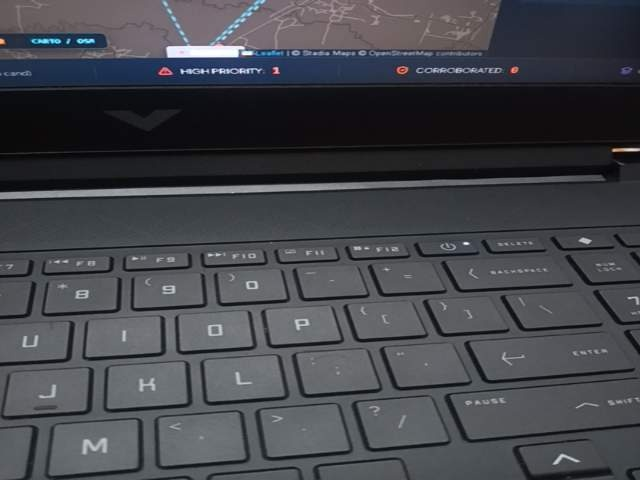pothole: (104, 136, 313, 275), (104, 403, 312, 480), (536, 403, 640, 480)
